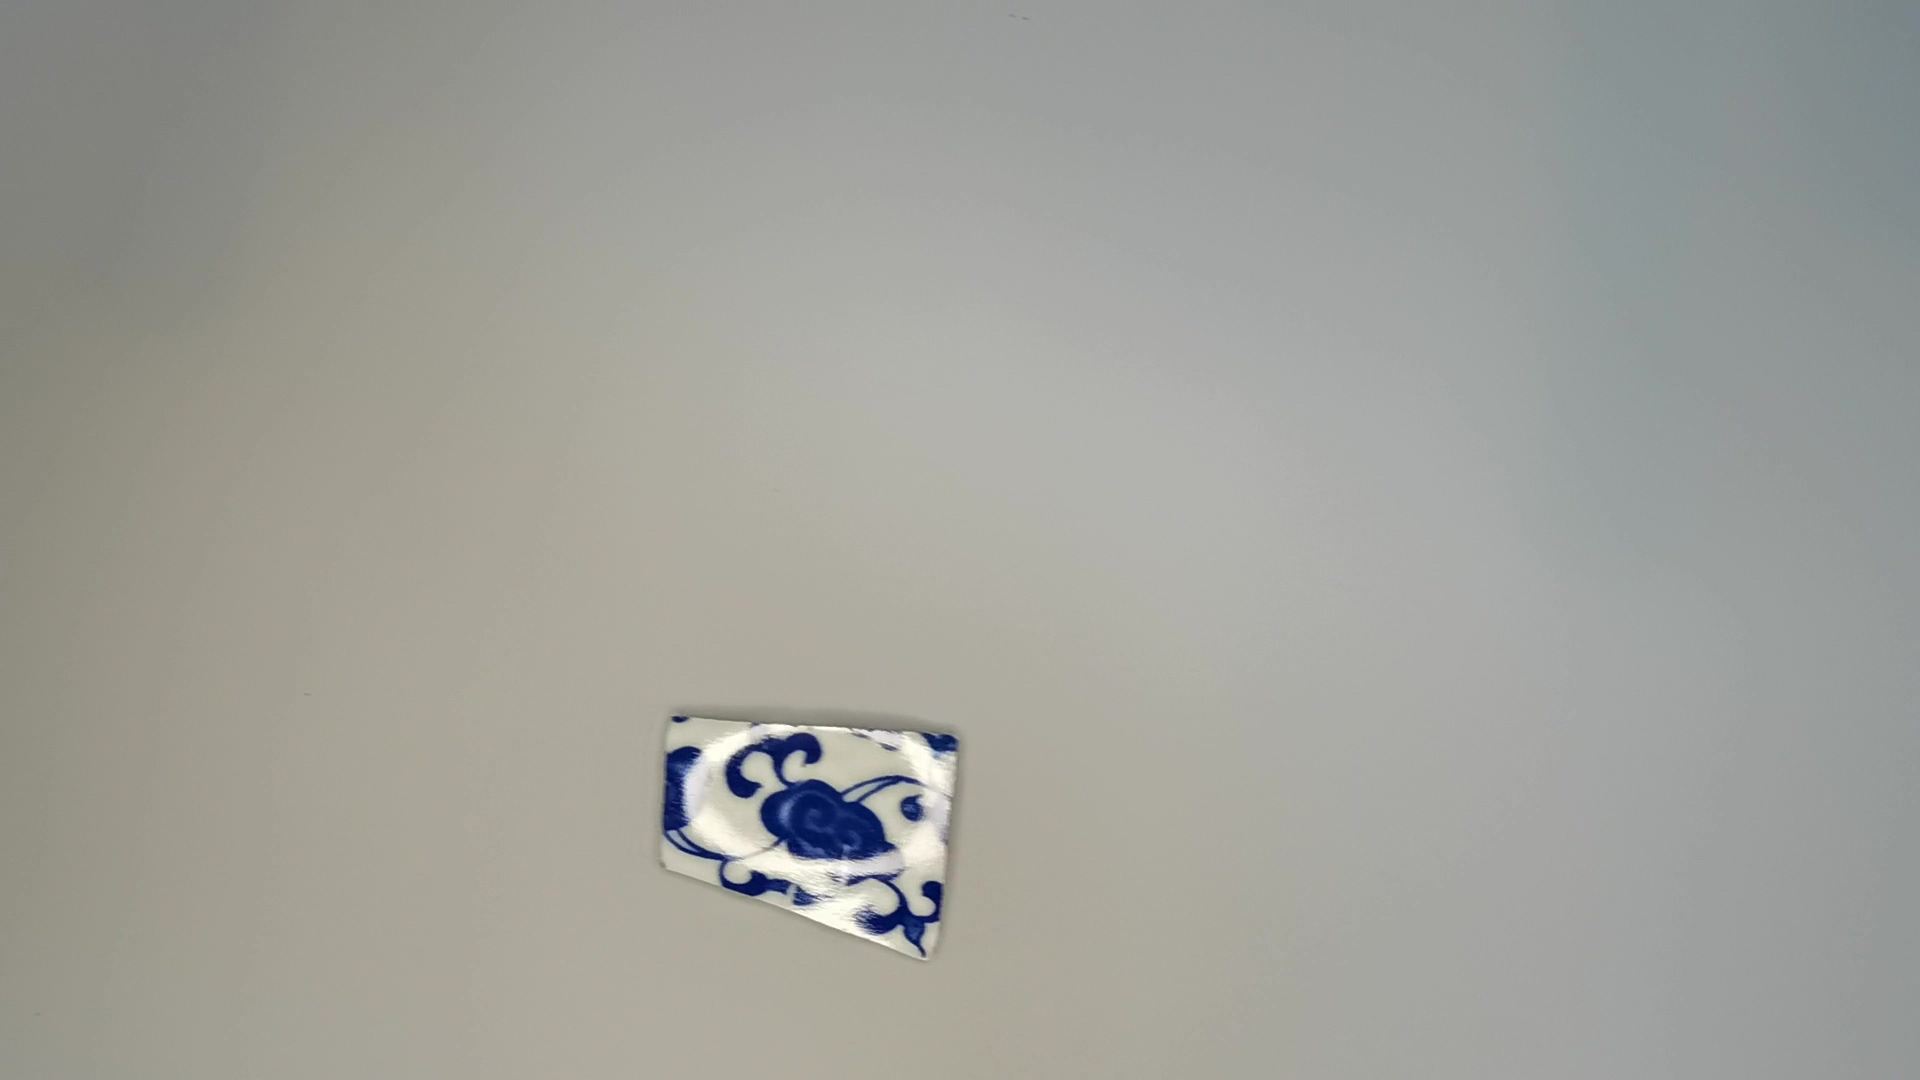ceramic: (654, 709, 971, 969)
